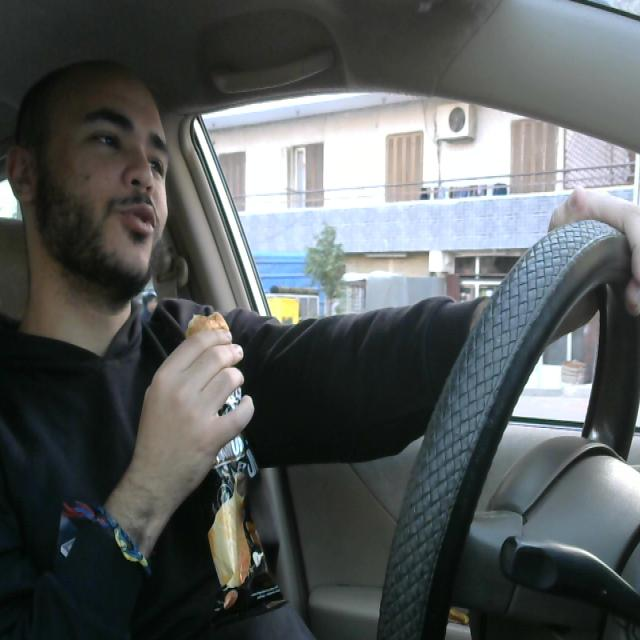eating: (180, 297, 298, 612)
